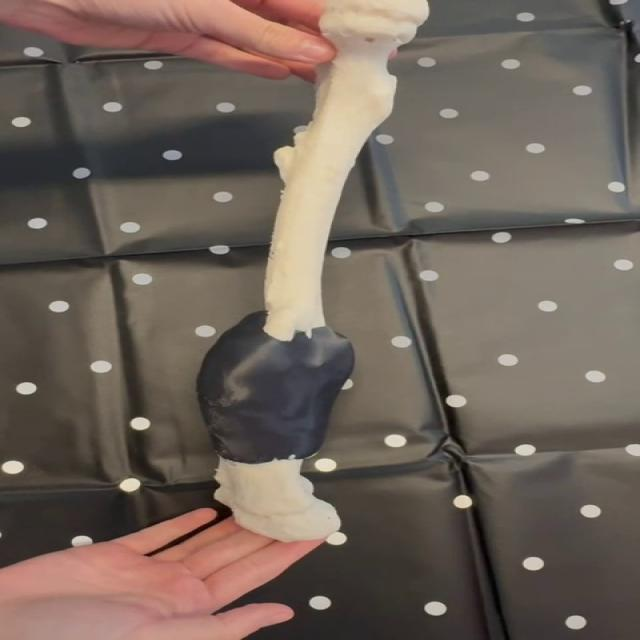bones: (198, 0, 429, 541)
